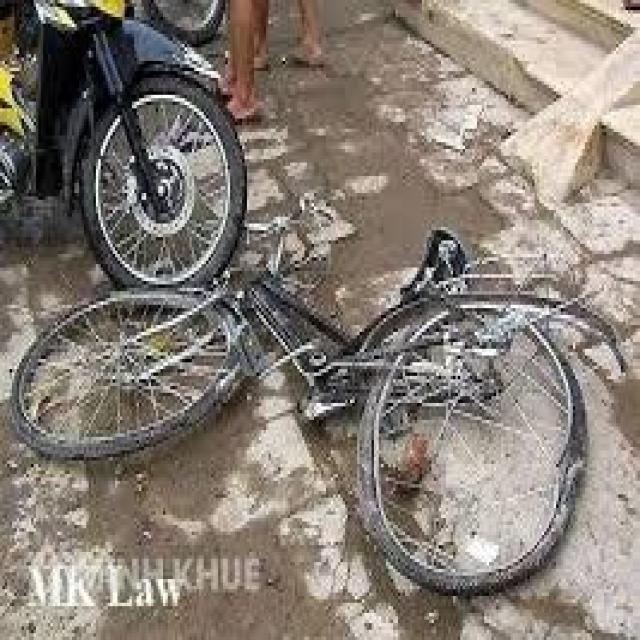accident: (20, 175, 624, 615)
